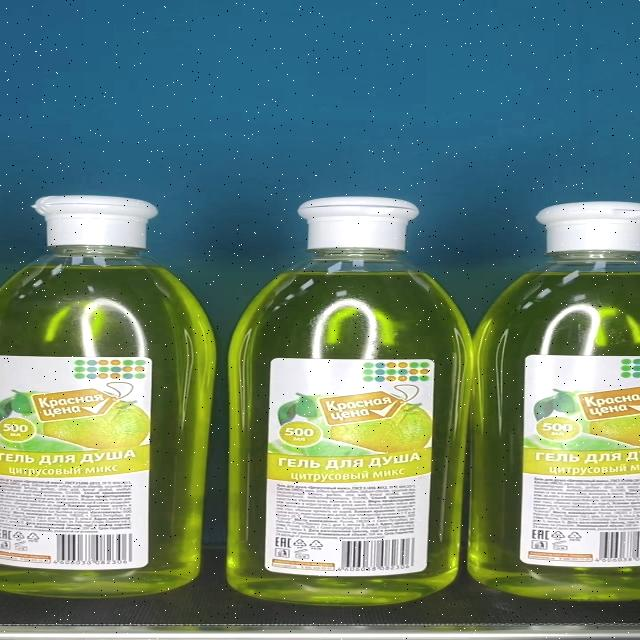Bottle: (228, 198, 476, 606), (0, 195, 218, 598)
Cap: (32, 195, 157, 248), (297, 197, 421, 250)
